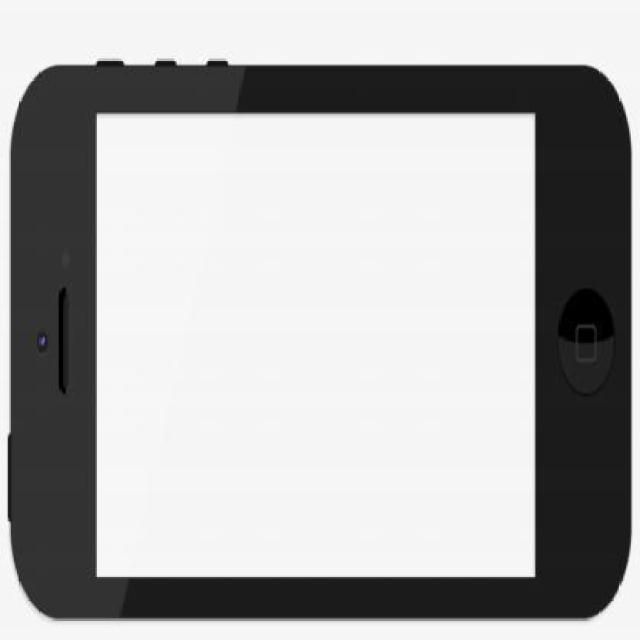mobile: (6, 65, 631, 623)
